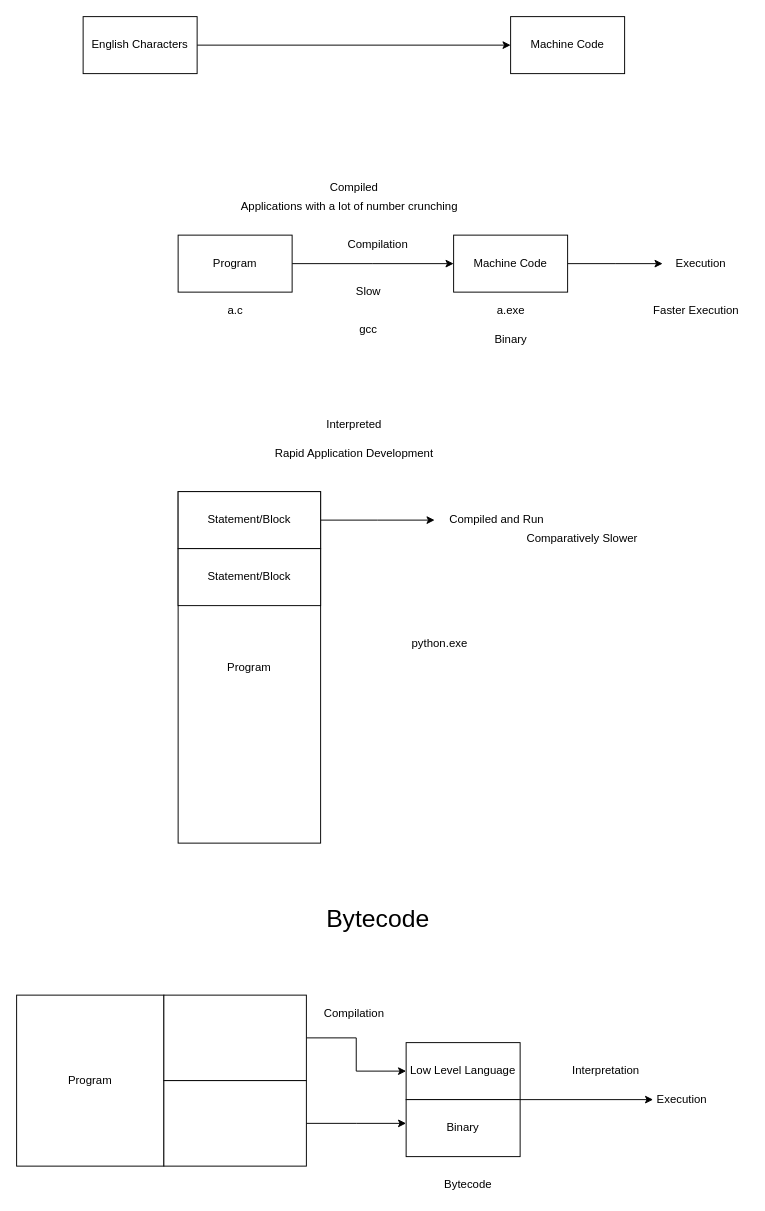
The diagram is 765 pixels wide and 1211 high, and some of its shapes have lost their labels. Here are the shapes that lost their labels. From the top down, the box of each, then its label:
(163, 994, 306, 1081): Platform Dependent Part
(163, 1080, 306, 1166): Platform Independent Part
